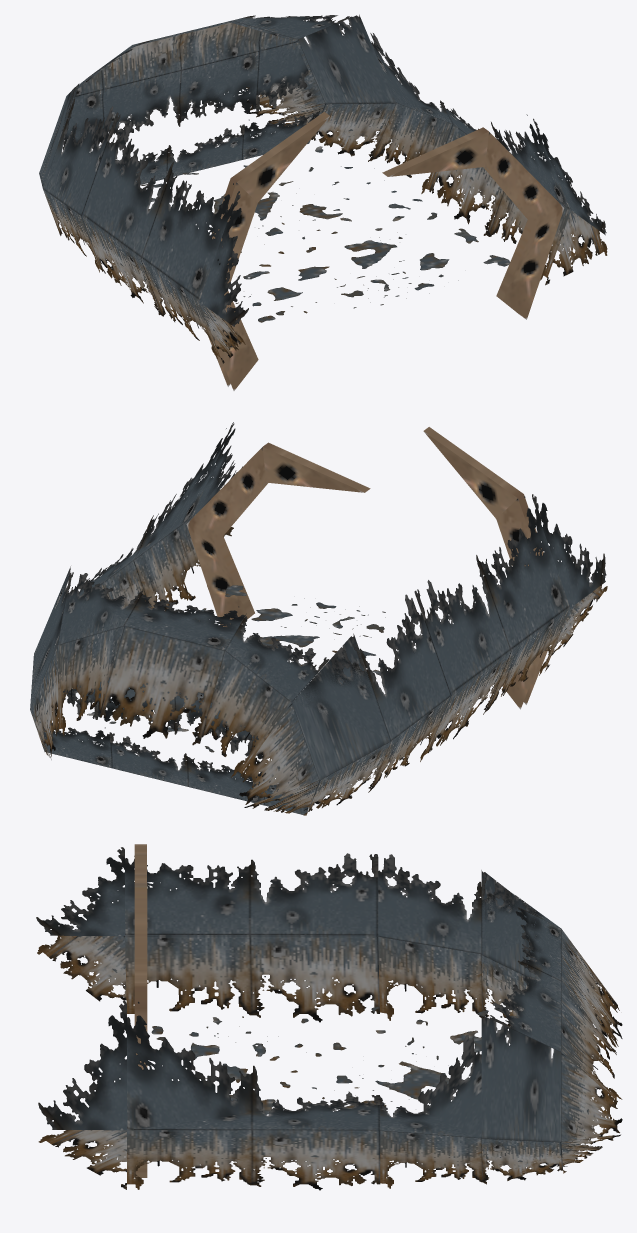
File: crashnose_dam.glb
The picture shows the model from 3 angles, top to bottom: view 1: azimuth 30°, elevation 25°; view 2: azimuth 150°, elevation 25°; view 3: azimuth 270°, elevation 25°; orthographic projection. The views are drawn at different scales.
Parts seen in each view (by area): view 1: Crash Nose; view 2: Crash Nose; view 3: Crash Nose.
Boxes of the visible parts, x1,y1,x2,y2 form: Crash Nose: [39, 14, 607, 390]; Crash Nose: [30, 422, 607, 815]; Crash Nose: [36, 844, 622, 1190].
Bounding box in the file's own units: 27.12 × 17.54 × 35.94.
3 materials, 3 textured.
